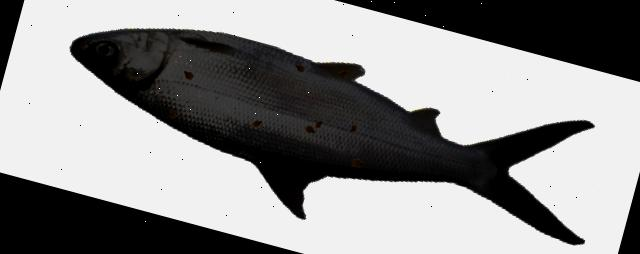Parasitic Disease: (70, 29, 592, 243)
